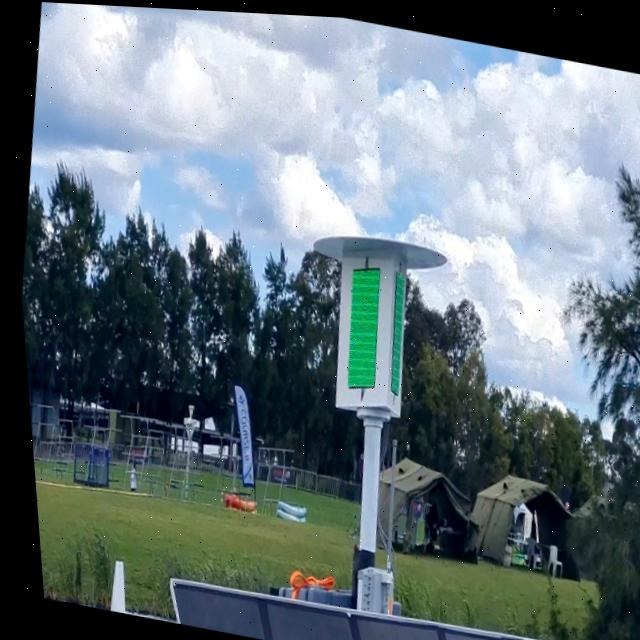led: (323, 252, 393, 396)
